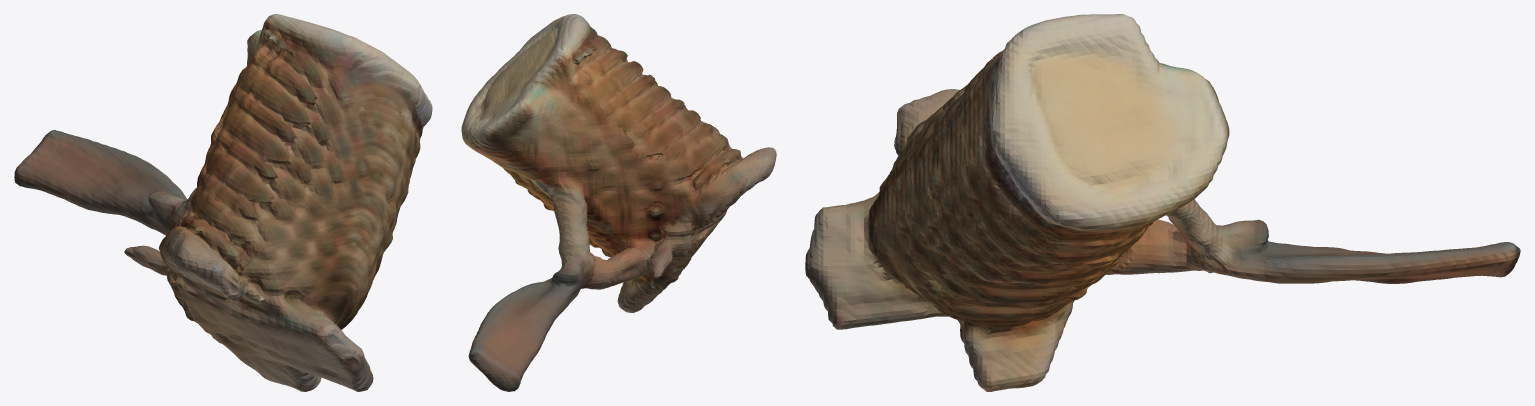
3 views of the same model, side by side, from view 1: azimuth 30°, elevation 25°; view 2: azimuth 150°, elevation 25°; view 3: azimuth 270°, elevation 25° (orthographic). The views are drawn at different scales.
Size of the model in its own units: 0.6111 by 0.6528 by 1.07.
